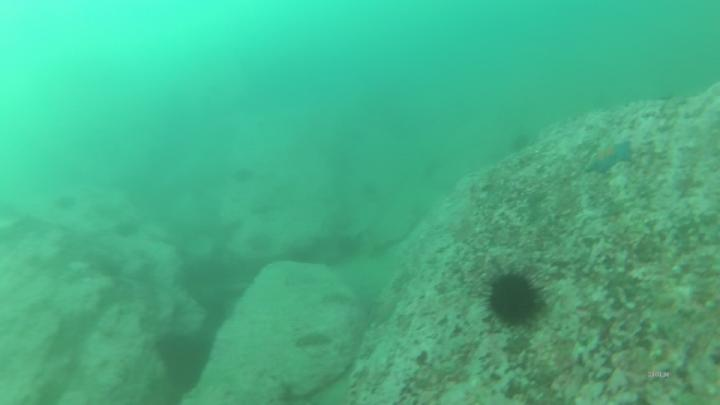echinus: (490, 276, 540, 326)
starfish: (588, 143, 634, 170)
